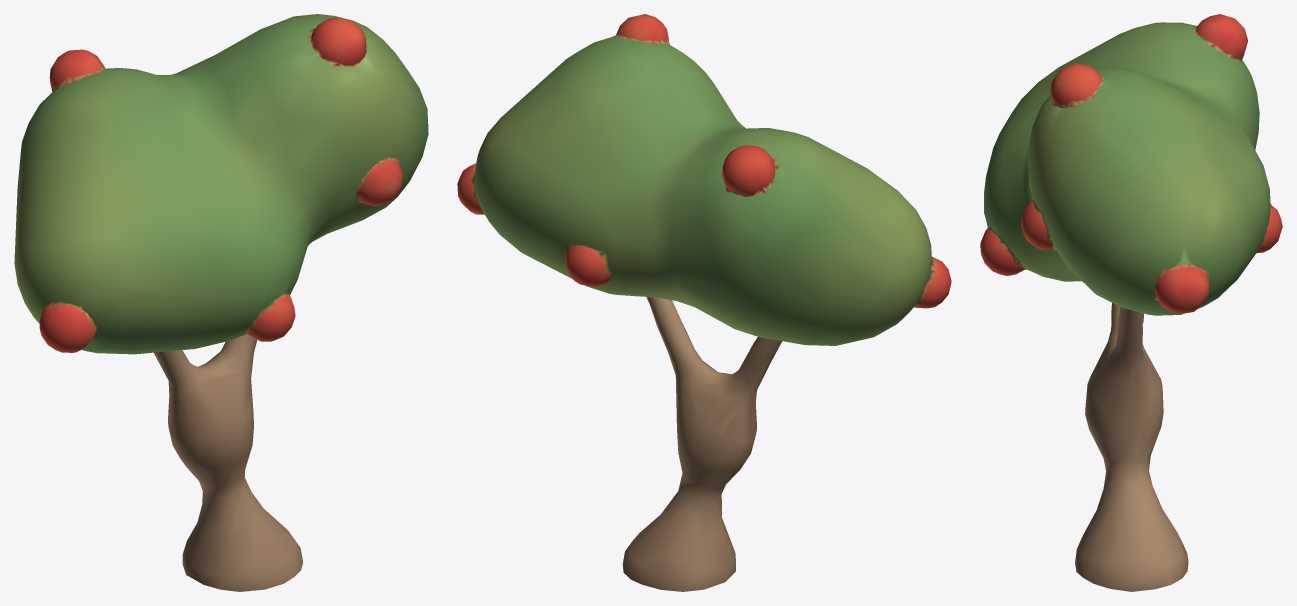
Rendered from fruit-tree2.glb.
3 renders of one model, left to right at view 1: azimuth 30°, elevation 25°; view 2: azimuth 150°, elevation 25°; view 3: azimuth 270°, elevation 25°, orthographic. The views are drawn at different scales.
Parts seen in each view (by area): view 1: fruit_crown_twin, body; view 2: fruit_crown_twin, body; view 3: fruit_crown_twin, body.
Part boxes in pixels (bbox=[...]): fruit_crown_twin: bbox=[14, 14, 428, 354]; body: bbox=[154, 334, 302, 591]; fruit_crown_twin: bbox=[457, 14, 951, 345]; body: bbox=[622, 297, 782, 591]; fruit_crown_twin: bbox=[980, 14, 1282, 315]; body: bbox=[1075, 303, 1188, 591].
Bounding box in the file's own units: 2.73 × 3.19 × 1.64.
